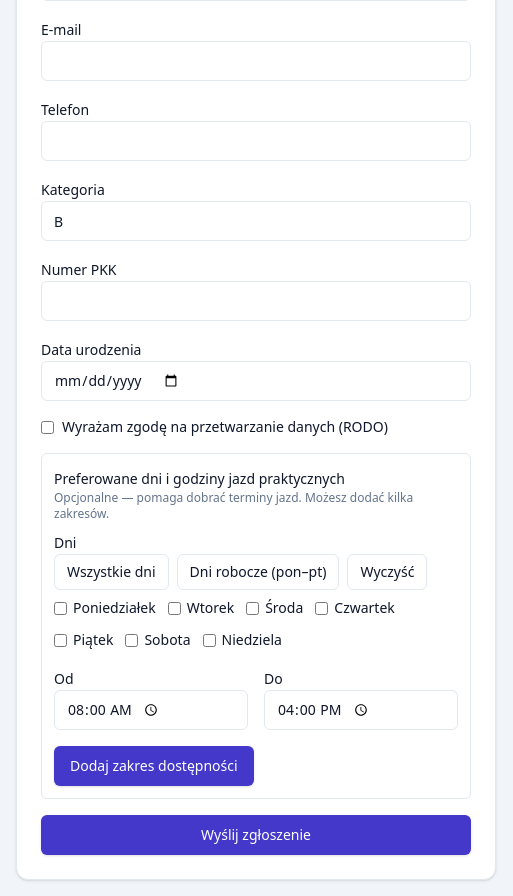
Test case: ApplicationForm (R4 UI) › blokuje wysyłkę i pokazuje braki przy pustym formularzu
(page scrolled)
Click the button "Wyślij zgłoszenie". click: (256, 835)
box: [41,815,471,855]
(page scrolled)
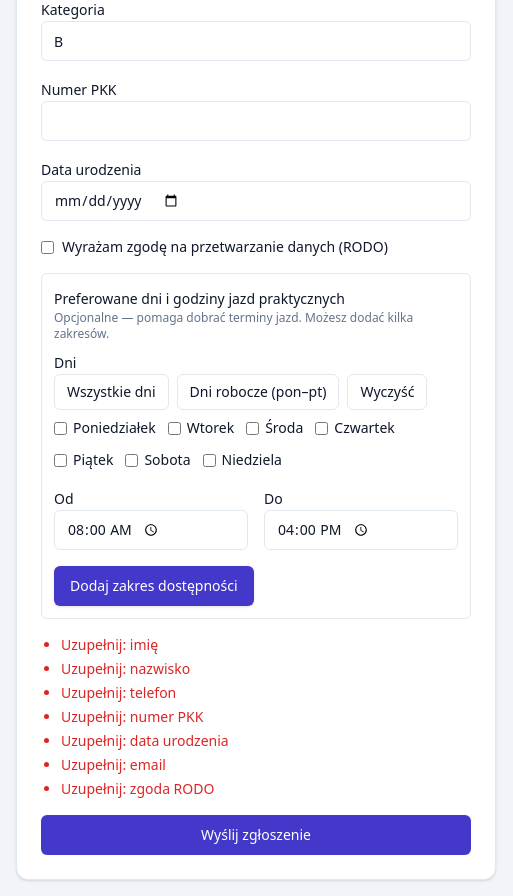
Expected: the message is shown, [61,635,229,798]
Expected: the list item "Uzupełnij: zgoda RODO" is shown, [61,779,214,798]
